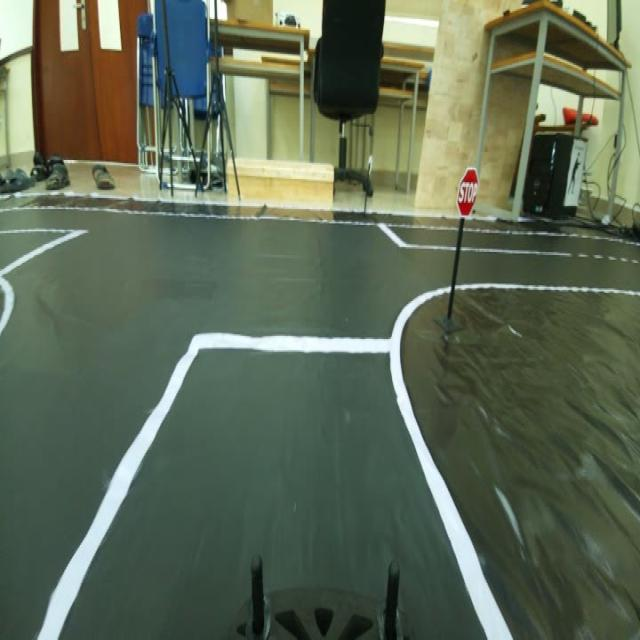stop: (453, 160, 481, 220)
